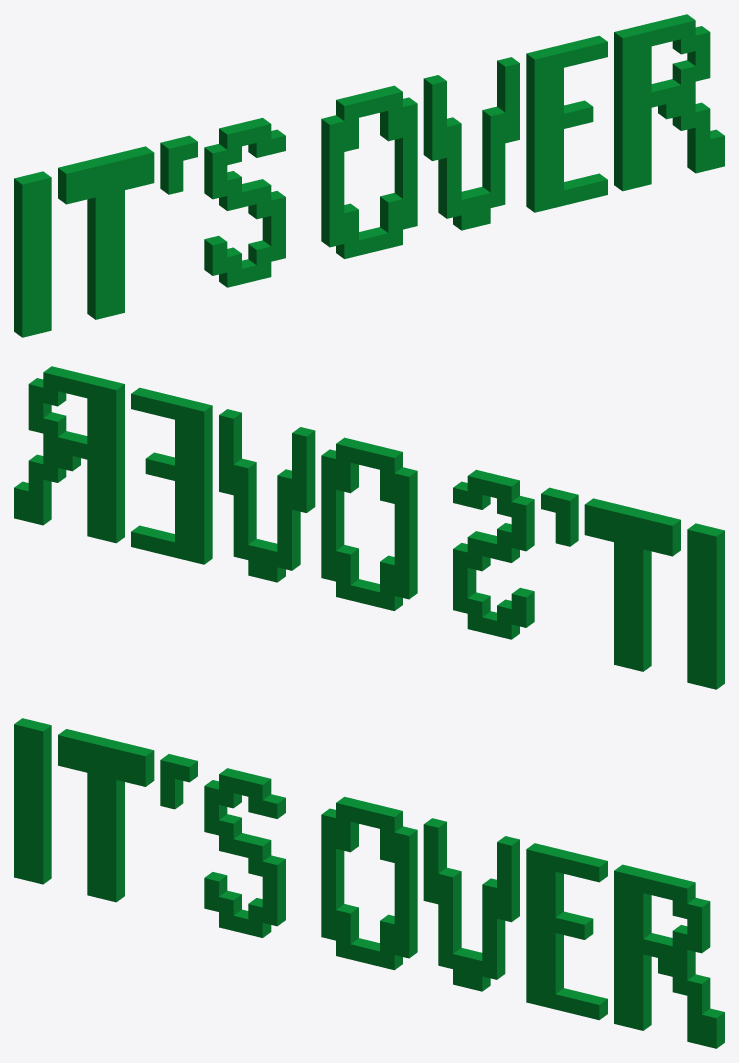
Rendered from over.obj.
The picture shows the model from 3 angles, top to bottom: view 1: azimuth 30°, elevation 25°; view 2: azimuth 150°, elevation 25°; view 3: azimuth 330°, elevation 25°; orthographic projection.
Size of the model in its own units: 48 by 10 by 1.
1 material, 1 textured.
